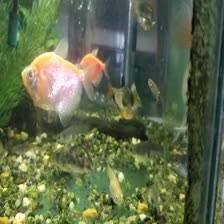Guppy: (120, 133, 169, 161), (99, 164, 125, 206), (6, 136, 41, 158), (142, 179, 164, 208), (145, 73, 163, 107)
Kiros: (44, 140, 94, 178)
Plano: (15, 50, 88, 118)
